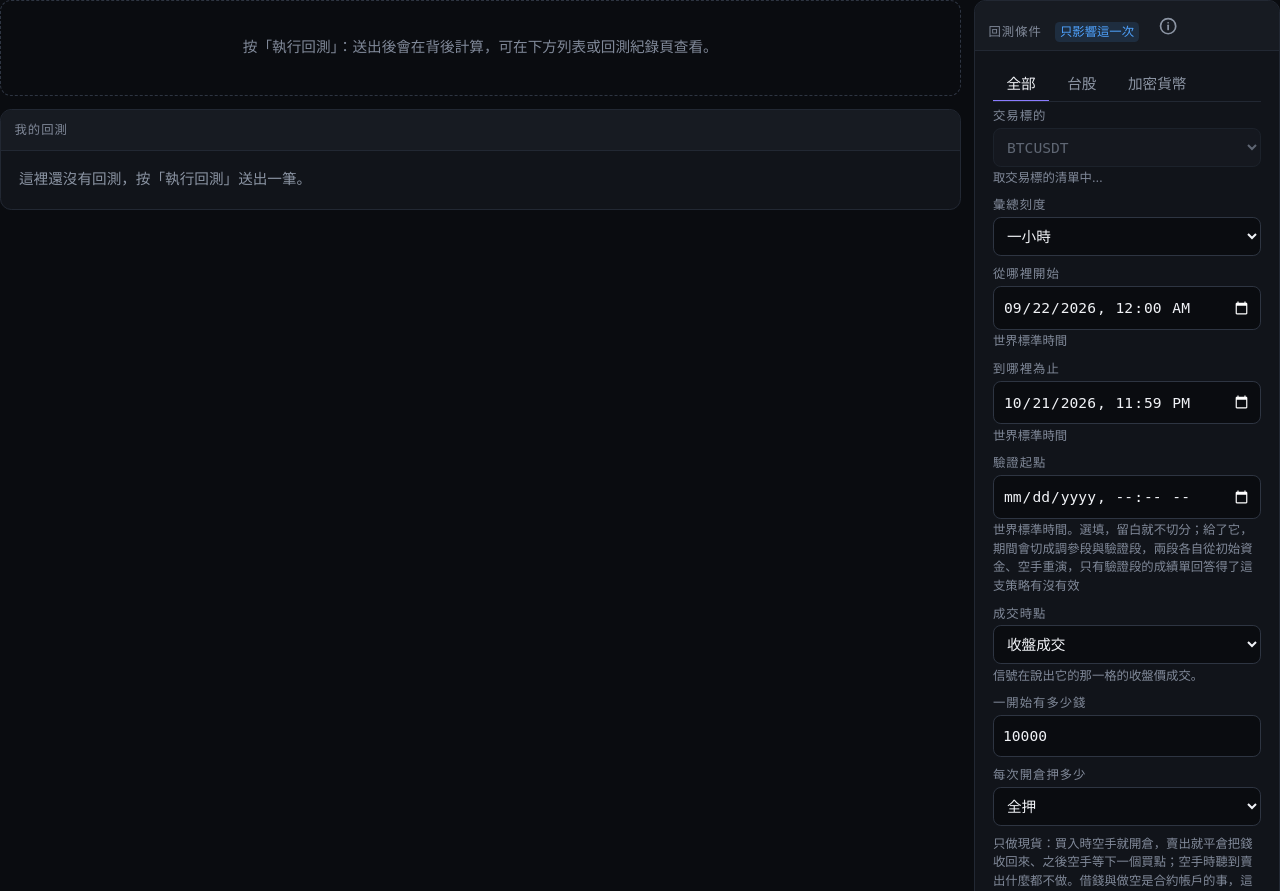
Test: StrategyScriptBacktestPane › 不合法就不送出，說明留在那一格旁邊 › 起點晚於終點時說在時間那一格，而且一次都沒打出去
Replace the text in the field with test id "backtest-start-time-input" with "2026-09-10T00:00" at [1127, 308], box [993,286,1261,330]
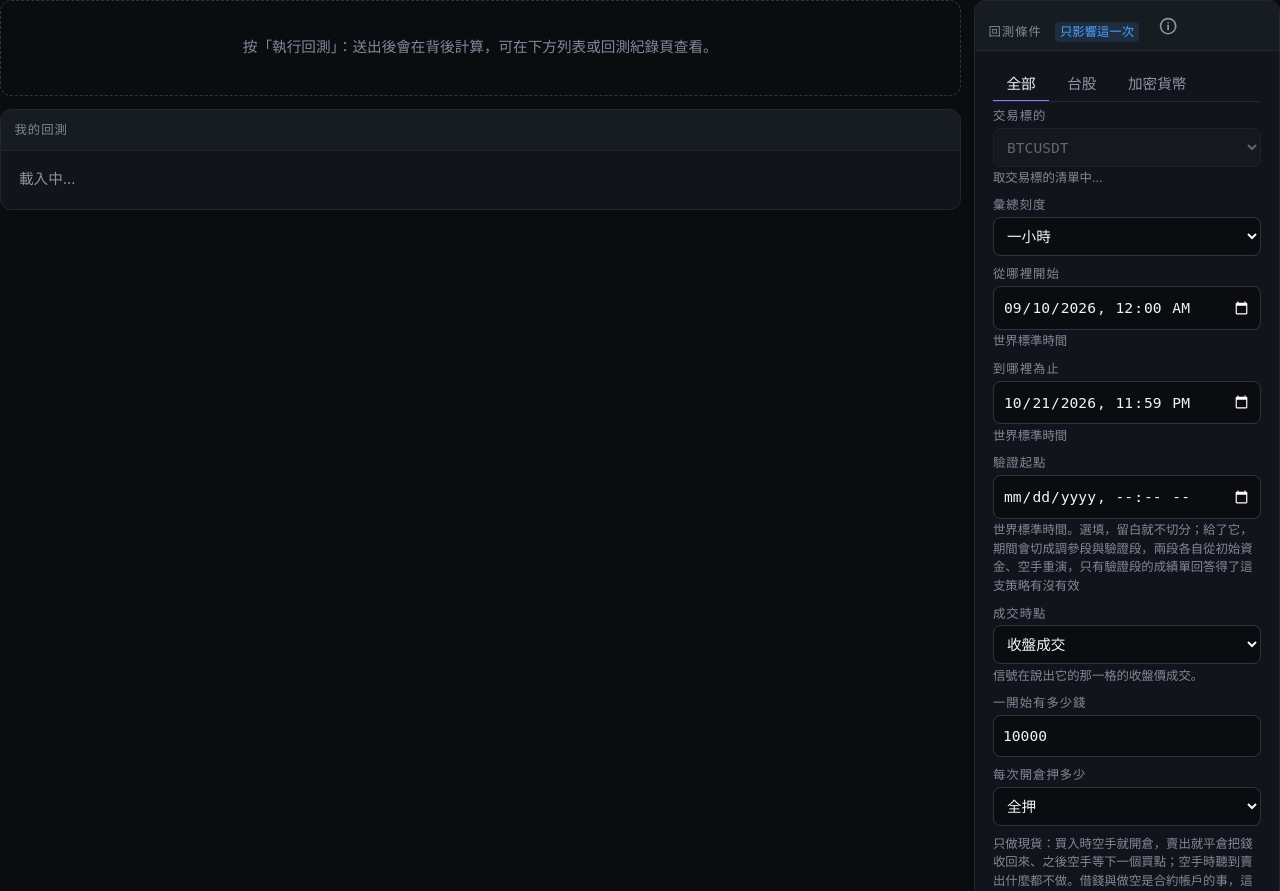
Replace the text in the field with test id "backtest-end-time-input" with "2026-09-01T00:00" at [1127, 402], box [993,380,1261,424]
(page scrolled)
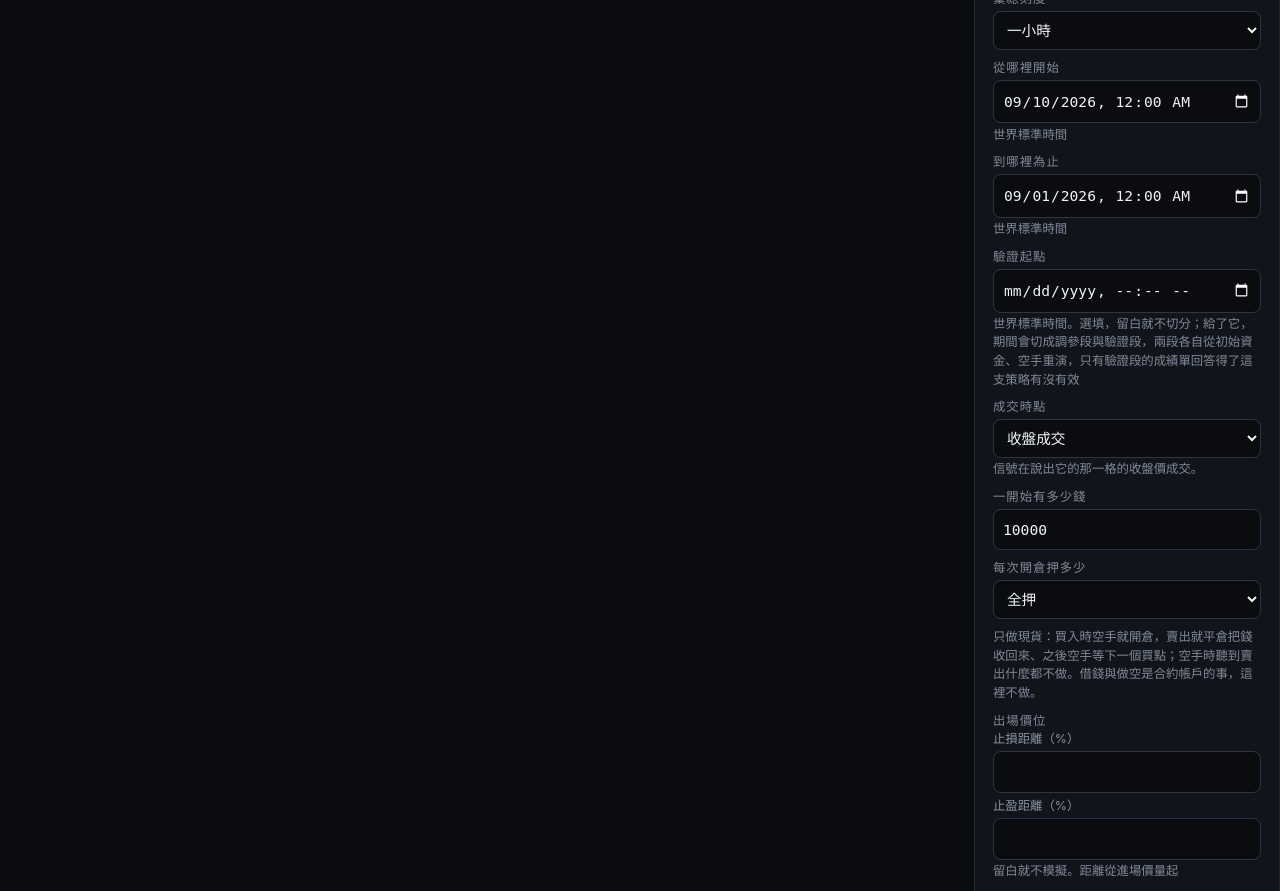
Submit the form
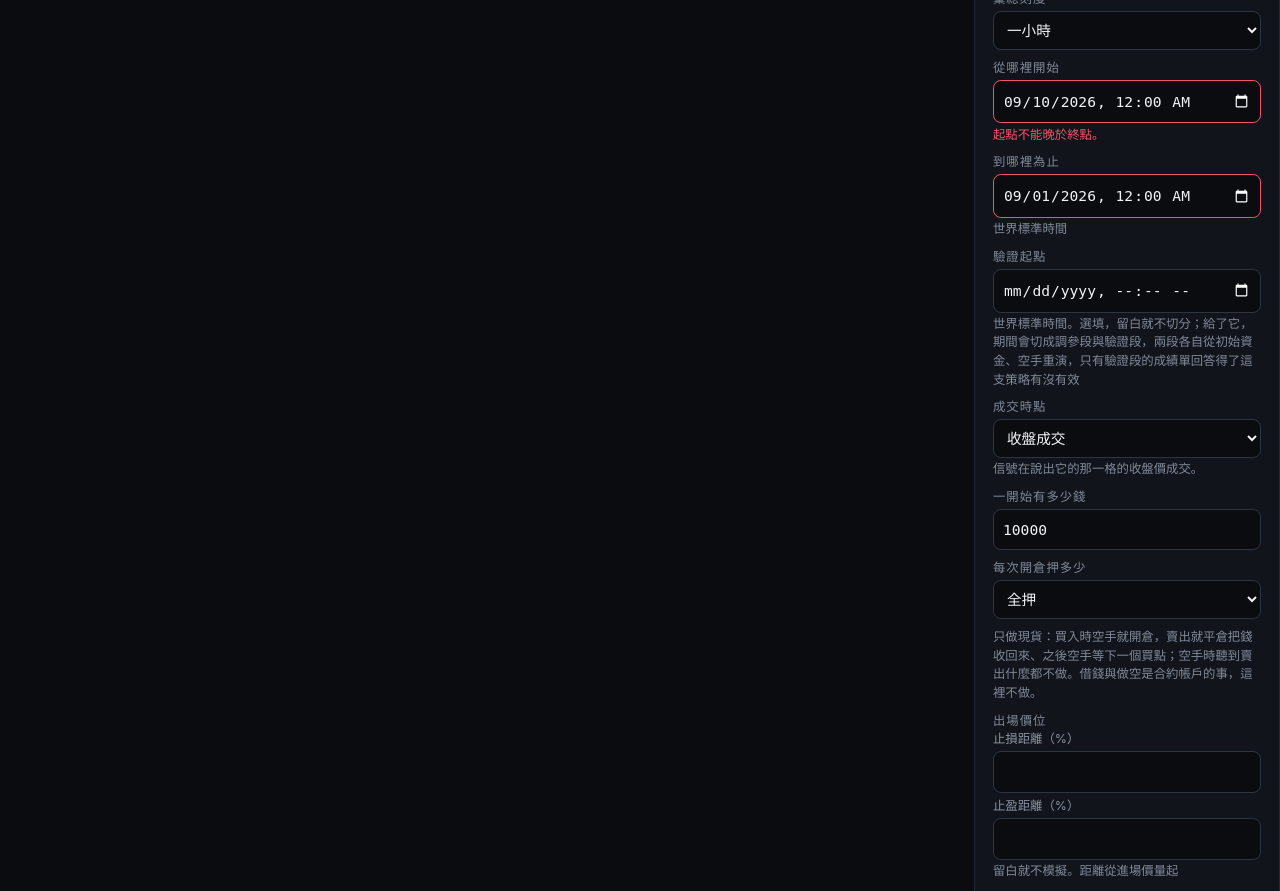
Expected: the form shows "起點不能晚於終點", [993,127,1104,142]
